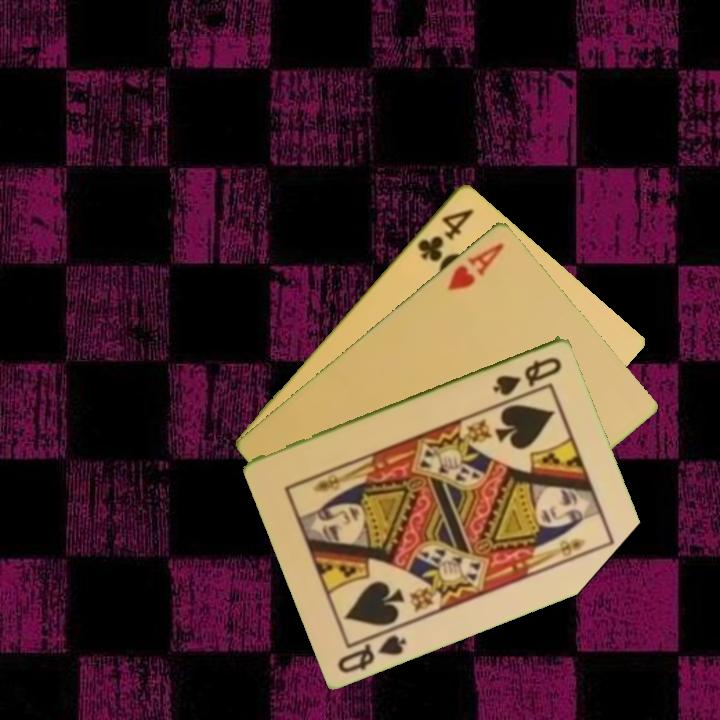4c: (413, 204, 477, 265)
Ah: (444, 238, 507, 293)
Qs: (334, 623, 410, 676), (489, 353, 565, 398)
